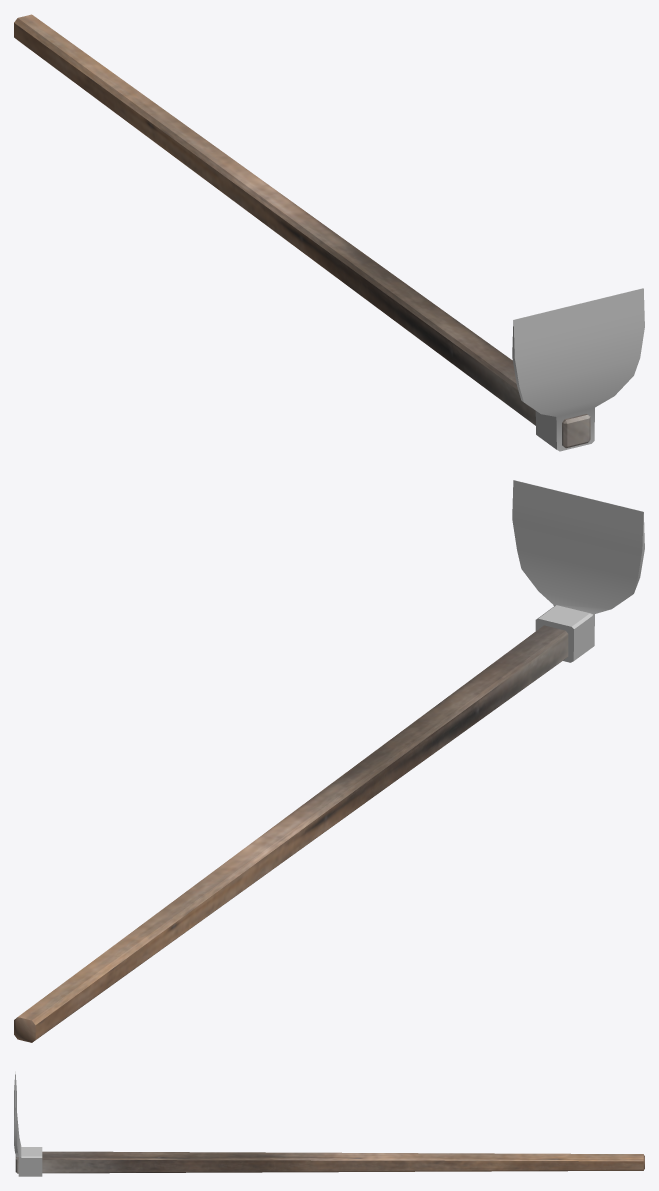
The model's file is jov_farmtools02.fbx.
3 renders of one model, top to bottom at view 1: azimuth 30°, elevation 25°; view 2: azimuth 150°, elevation 25°; view 3: azimuth 270°, elevation 25°, orthographic. The views are drawn at different scales.
Parts seen in each view (by area): view 1: jov_farmtools02; view 2: jov_farmtools02; view 3: jov_farmtools02.
Part boxes in pixels (x1,y1,x2,y2): jov_farmtools02: [14, 14, 644, 451]; jov_farmtools02: [14, 480, 644, 1042]; jov_farmtools02: [14, 1071, 644, 1176].
Bounding box in the file's own units: 19.66 × 21.02 × 145.
